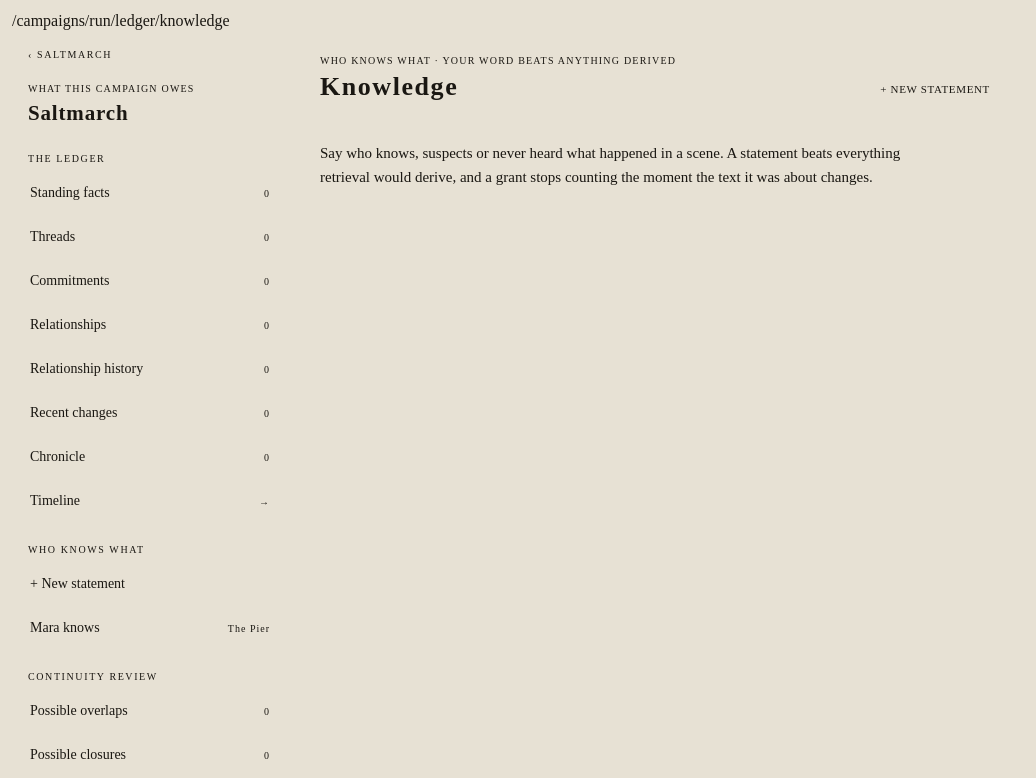
a row opens the read-only view, with its sidebar and no form
Click the button "Mara knows The Pier": (65, 628) [12, 607, 286, 651]
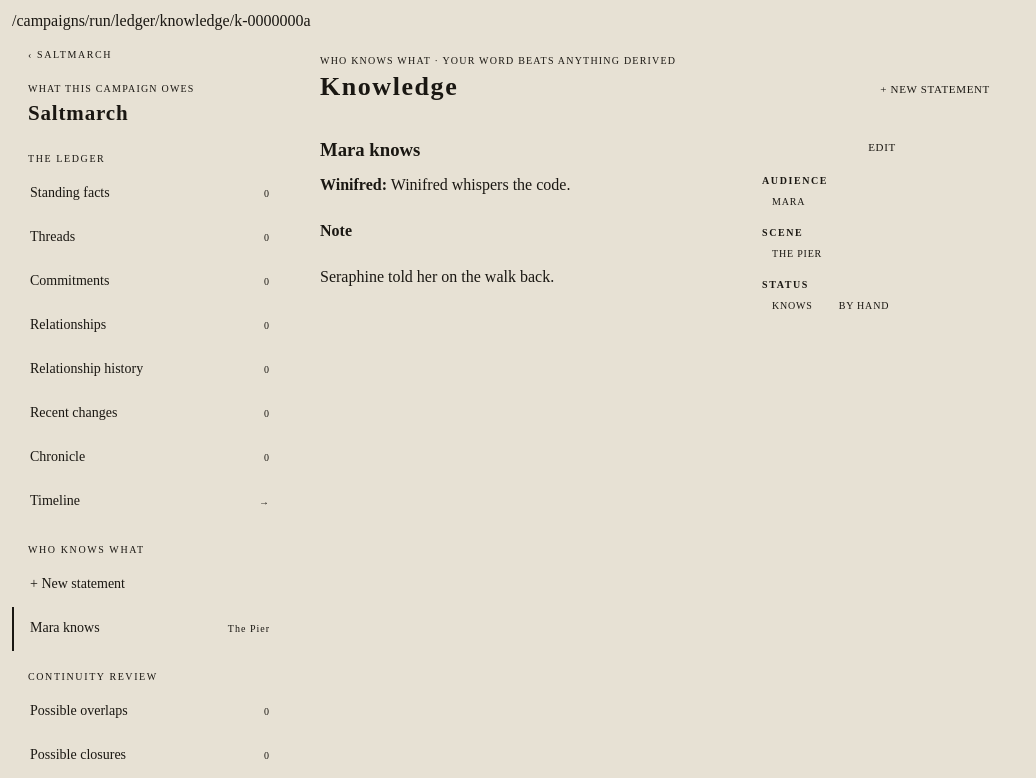
Result: the text "Winifred whispers the code." is shown at [387, 176, 570, 193]
Result: the text "Seraphine told her on the walk back." is shown at [320, 268, 554, 285]
Result: the button "Edit" is shown at [762, 135, 1002, 159]
